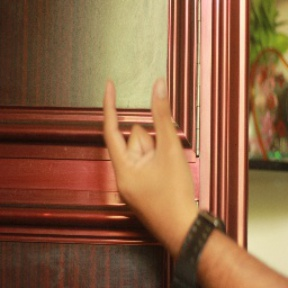U: (90, 69, 187, 203)
